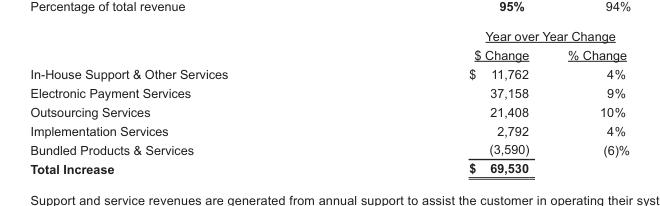table: (29, 28, 629, 175)
table column: (29, 28, 347, 175), (347, 28, 547, 175), (547, 28, 629, 175)
table column header: (29, 28, 629, 64)
table row: (29, 45, 629, 64), (29, 82, 629, 101), (29, 101, 629, 120), (29, 120, 629, 139), (29, 139, 629, 158), (29, 64, 629, 82), (29, 28, 629, 45), (29, 158, 629, 175)
table spanning cell: (347, 28, 629, 45)
